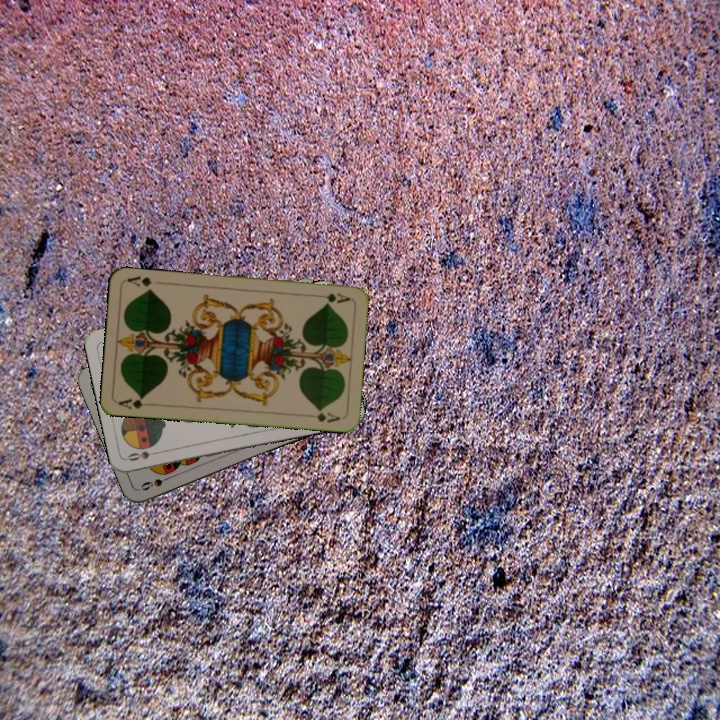GA: (115, 393, 156, 412), (312, 289, 352, 306)
S9: (137, 471, 176, 493)
SO: (124, 447, 164, 464)
